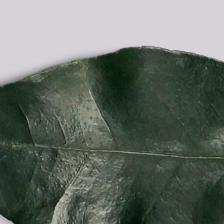healthy: (12, 57, 224, 223)
